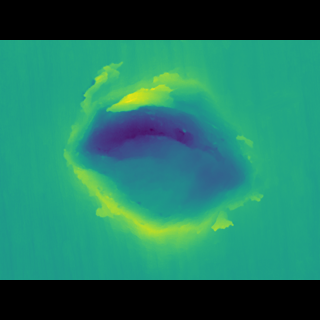Loch: (60, 84, 275, 238)
